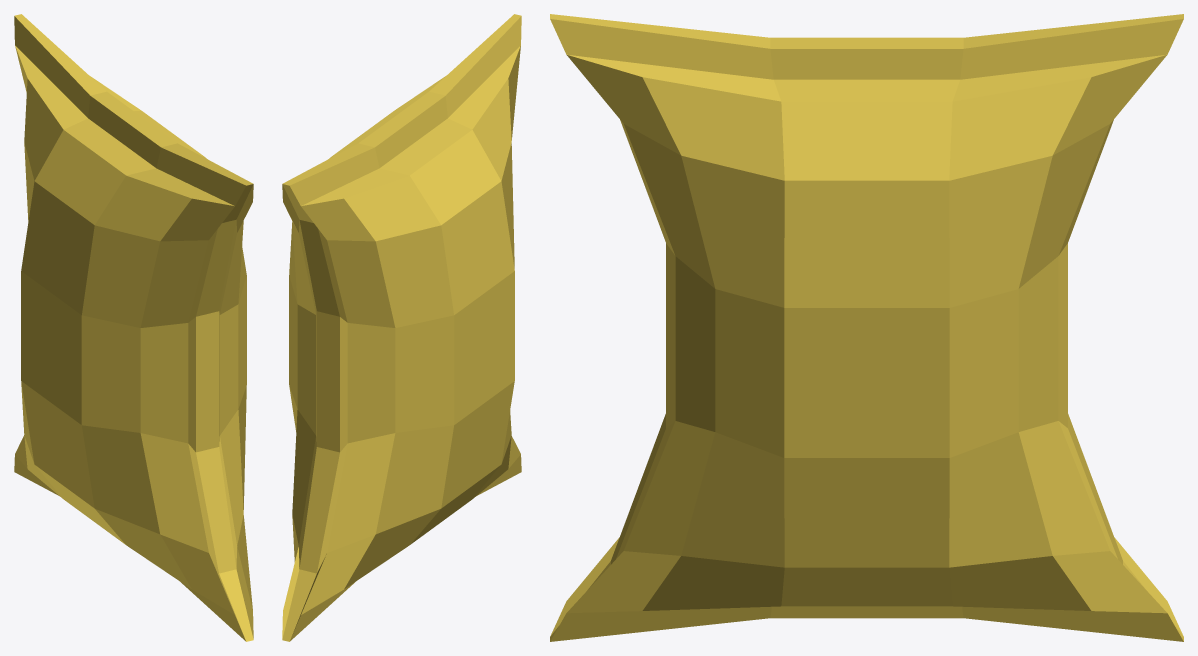
File: SackUV.fbx
The picture shows the model from 3 angles, left to right: view 1: azimuth 30°, elevation 25°; view 2: azimuth 150°, elevation 25°; view 3: azimuth 270°, elevation 25°; orthographic projection. The views are drawn at different scales.
Visible parts, largest first — view 1: Sphere; view 2: Sphere; view 3: Sphere.
Part boxes in pixels (x1,y1,x2,y2): Sphere: [14, 14, 253, 641]; Sphere: [282, 14, 521, 641]; Sphere: [550, 14, 1183, 641].
Bounding box in the file's own units: 36 × 95.1 × 87.7.
